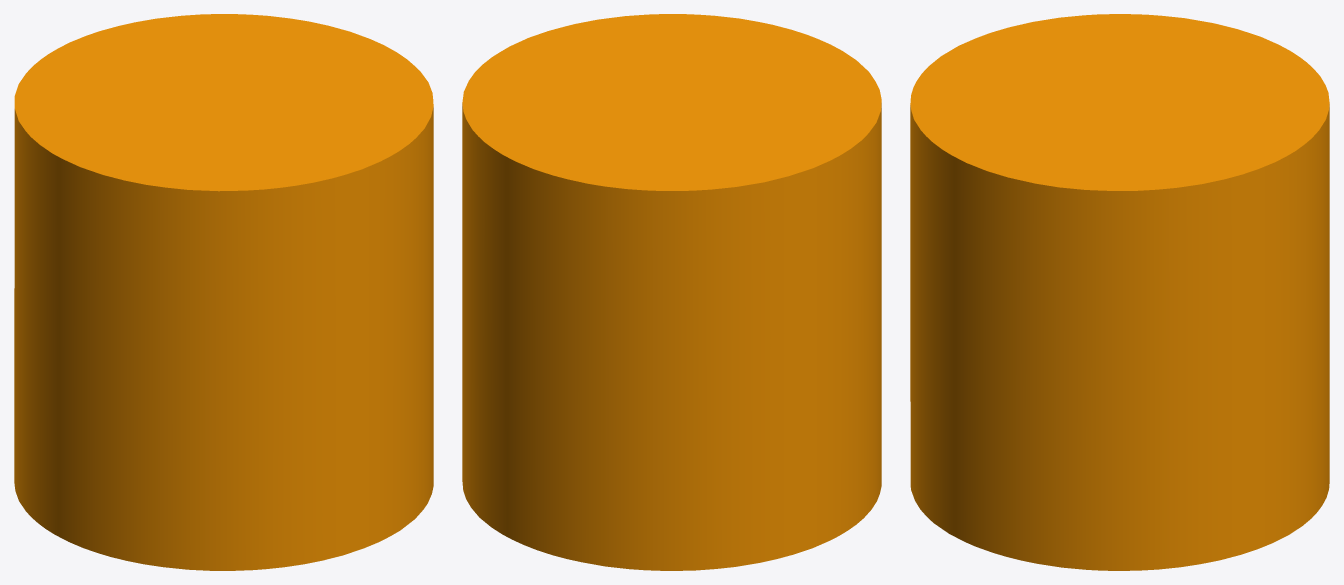
3 renders of one model, left to right at view 1: azimuth 30°, elevation 25°; view 2: azimuth 150°, elevation 25°; view 3: azimuth 270°, elevation 25°, orthographic.
Parts seen in each view (by area): view 1: SM_Cylinder; view 2: SM_Cylinder; view 3: SM_Cylinder.
Boxes of the visible parts, left/top/right/bottom form: SM_Cylinder: left=14, top=14, right=433, bottom=570; SM_Cylinder: left=462, top=14, right=881, bottom=570; SM_Cylinder: left=910, top=14, right=1329, bottom=570.
Bounding box in the file's own units: 1 × 1 × 1.
